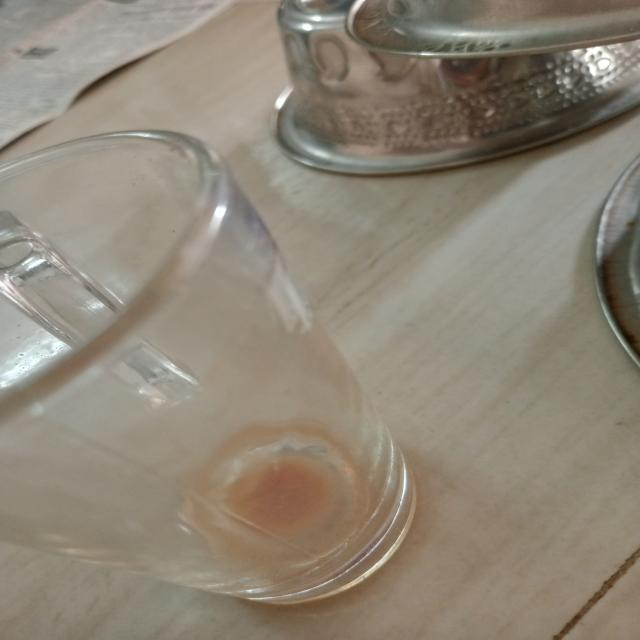glass-VX4N: (0, 125, 409, 640)
